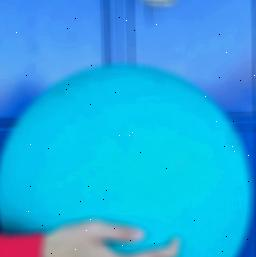algae: (0, 63, 253, 257)
